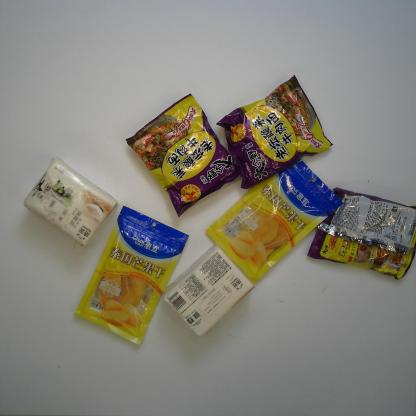Dried Fruit: (202, 155, 345, 285), (72, 204, 191, 348)
Instant Noodles: (122, 90, 243, 220), (212, 74, 335, 192), (305, 187, 416, 283)
Tissue: (161, 242, 254, 340), (21, 158, 120, 246)
